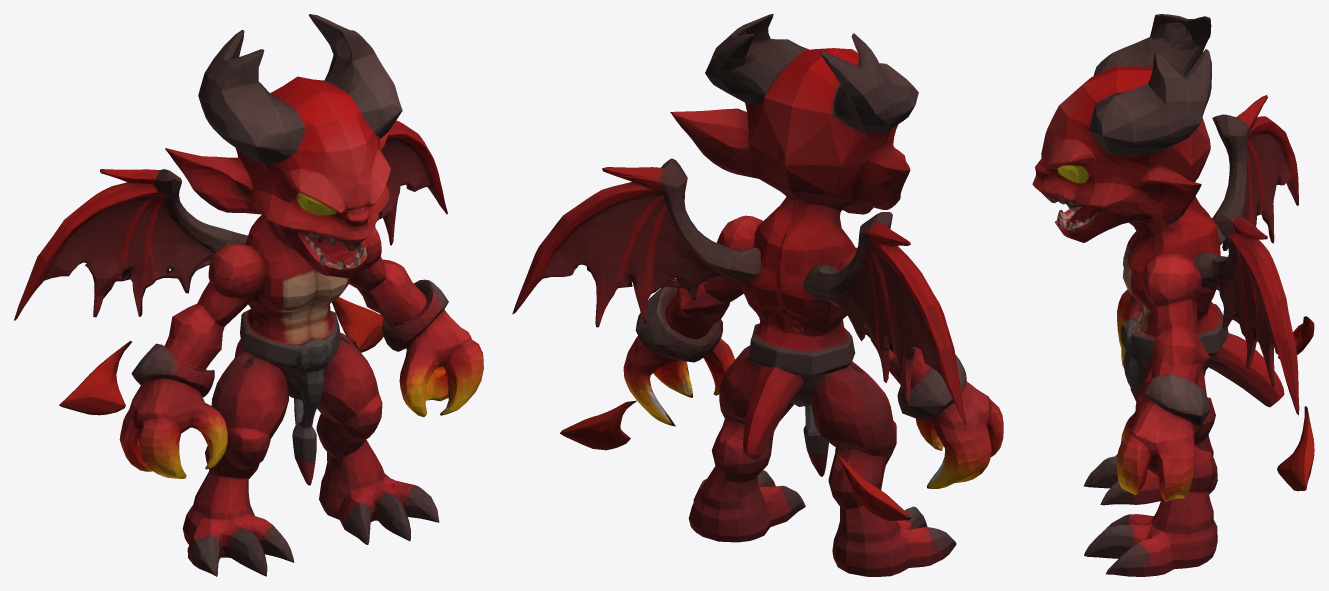
File: trellis-1.glb
3 renders of one model, left to right at view 1: azimuth 30°, elevation 25°; view 2: azimuth 150°, elevation 25°; view 3: azimuth 270°, elevation 25°, orthographic. The views are drawn at different scales.
Visible parts, largest first — view 1: world; view 2: world; view 3: world.
Part boxes in pixels (<box>): world: <box>14,14,483,576</box>; world: <box>512,14,1003,576</box>; world: <box>1032,14,1314,576</box>.
Size of the model in its own units: 0.9177 by 0.9984 by 0.5205.
1 material, 1 textured.
